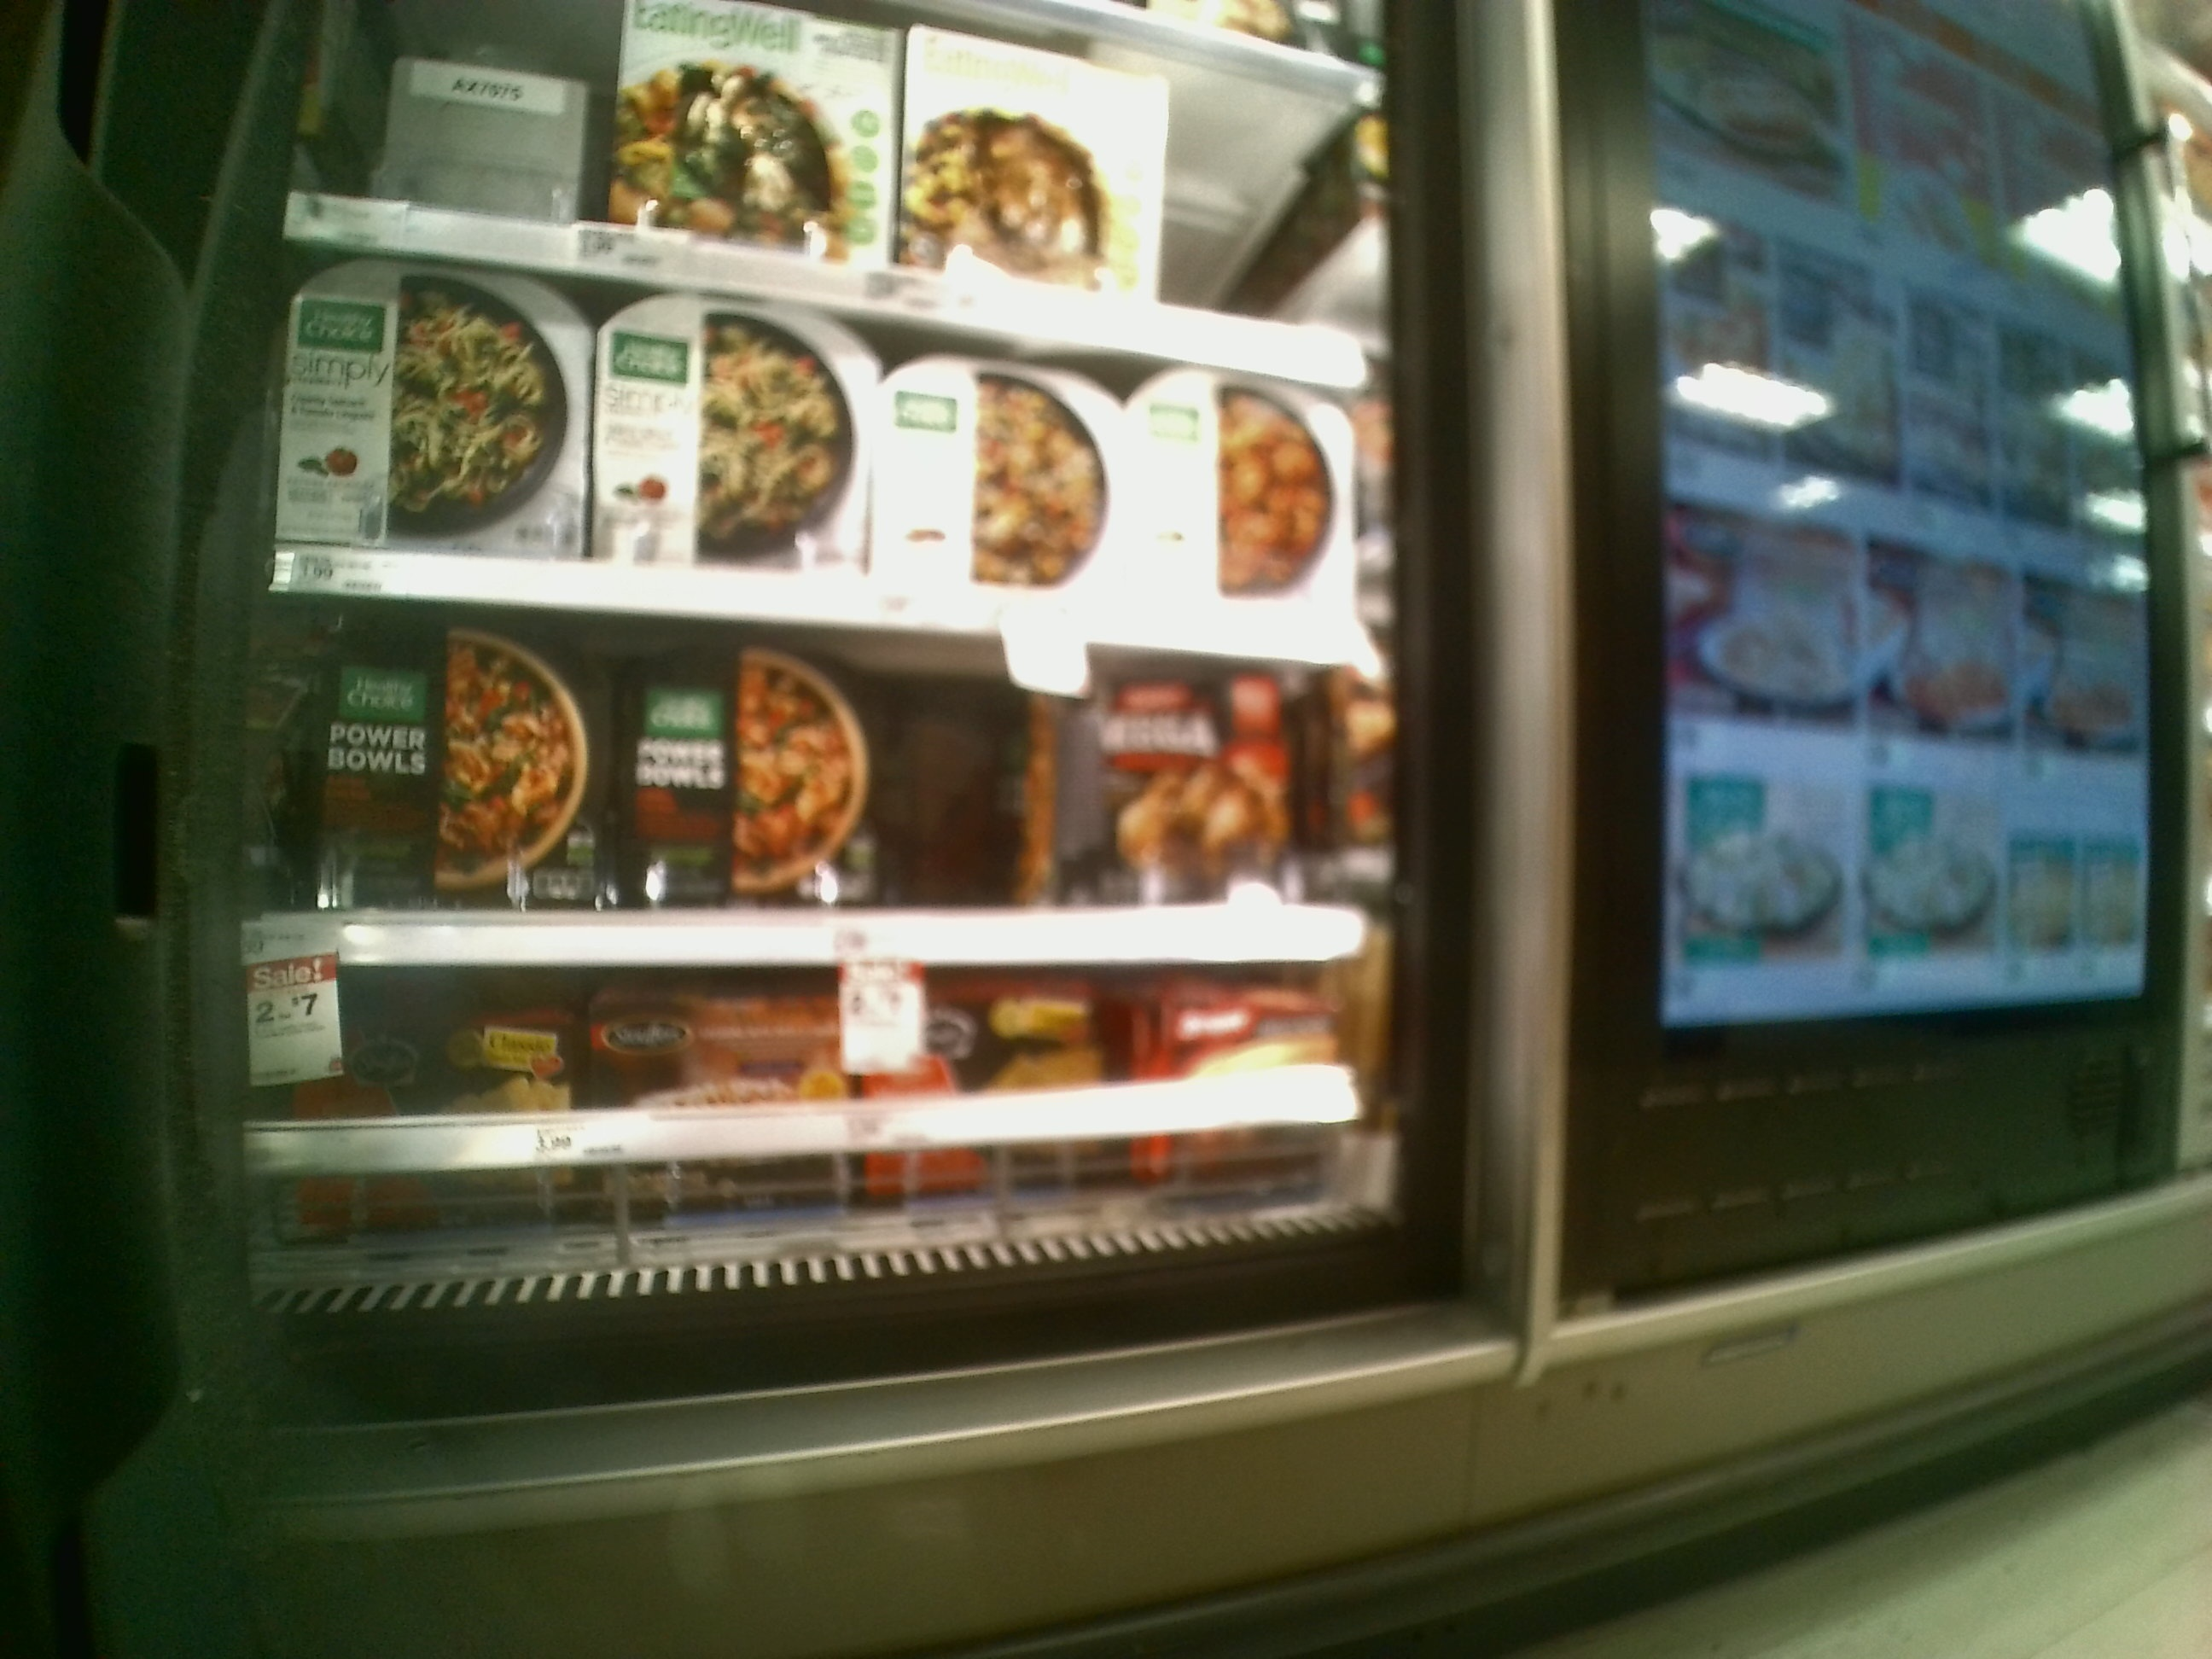pizza: (286, 254, 599, 556), (294, 624, 606, 899), (902, 5, 1163, 289), (597, 286, 864, 563), (608, 641, 874, 908), (620, 0, 888, 256), (1038, 657, 1310, 894), (867, 335, 1118, 587), (1118, 355, 1374, 584)
